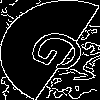G: (25, 25, 100, 81)
